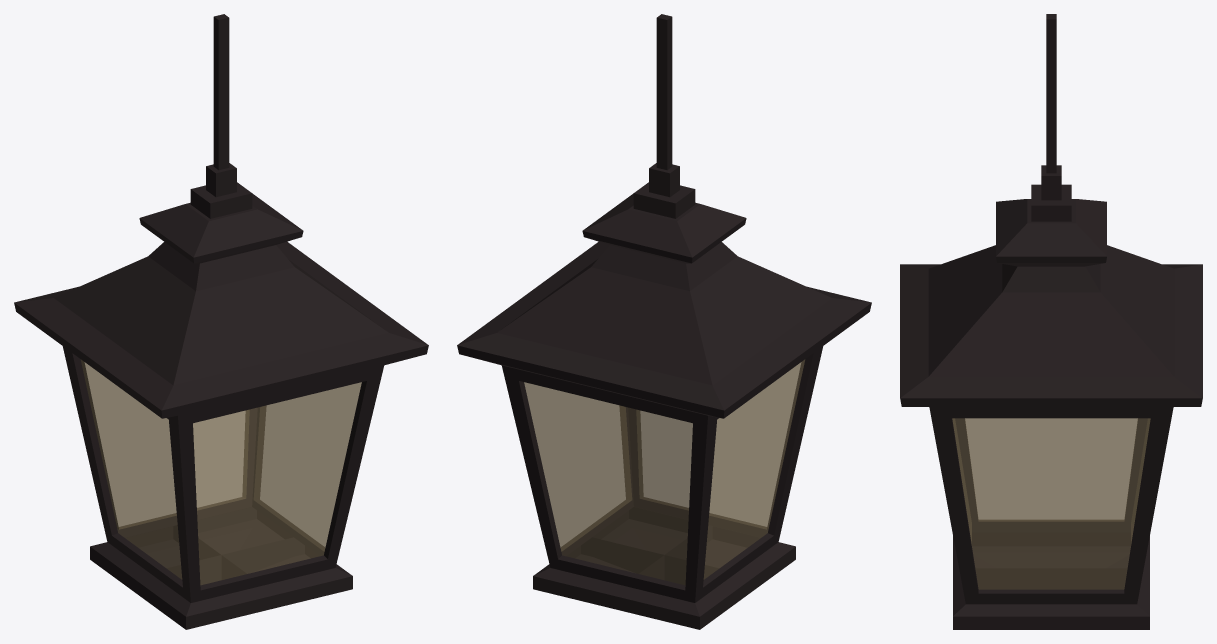
Rendered from farolDecoracion.fbx.
3 views of the same model, side by side, from view 1: azimuth 30°, elevation 25°; view 2: azimuth 150°, elevation 25°; view 3: azimuth 270°, elevation 25° (orthographic). The views are drawn at different scales.
Parts seen in each view (by area): view 1: Cube; view 2: Cube; view 3: Cube.
Boxes of the visible parts, x1,y1,x2,y2 form: Cube: [14, 14, 428, 629]; Cube: [457, 14, 871, 629]; Cube: [900, 14, 1202, 629].
Size of the model in its own units: 213 by 436 by 204.
